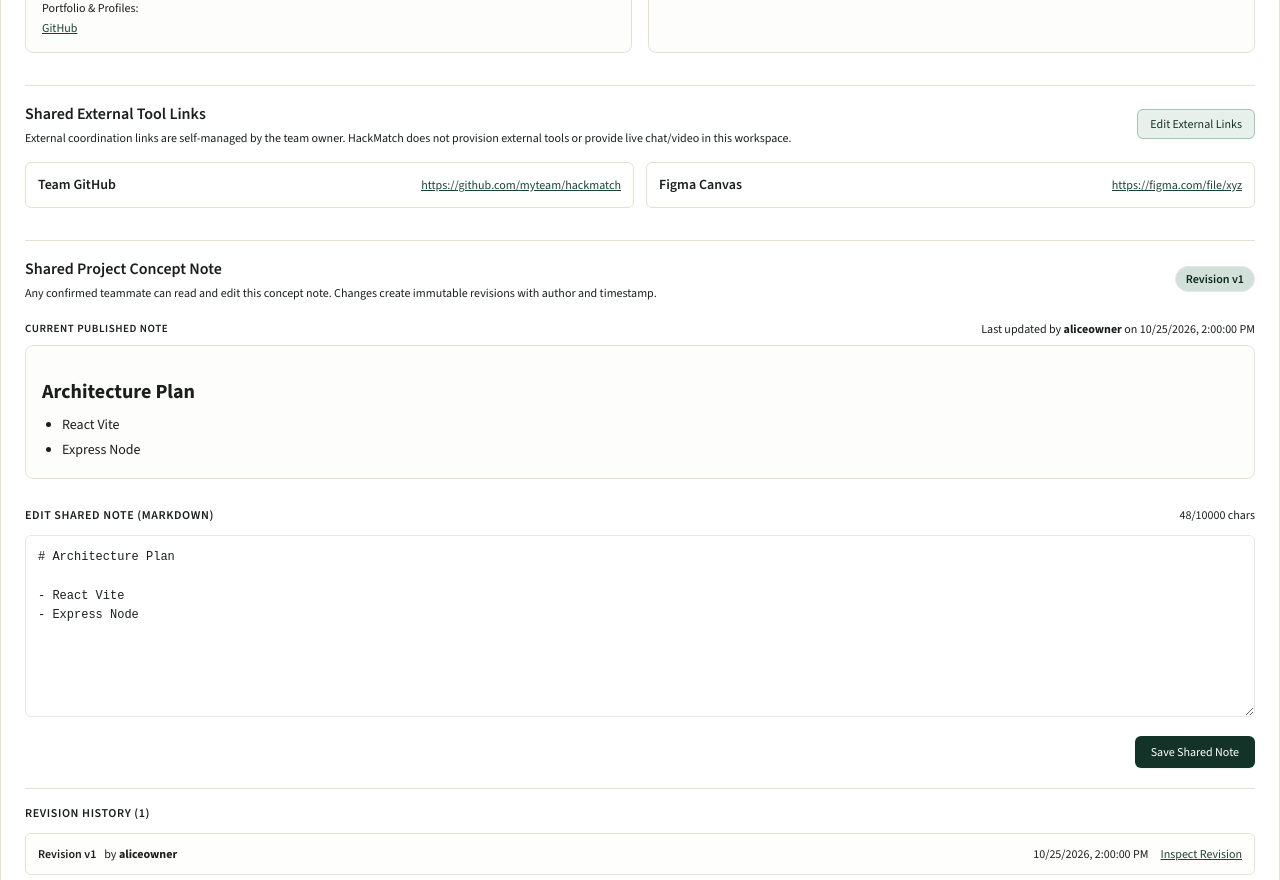
PrivateCoordinationWorkspace component (US-023 / #US-023-T6) › Shared Concept Note & Stale-Save Conflict (FR-070 / US-023 AC 4) › handles 409 stale-save conflict by preserving user text and offering load latest revision
(page scrolled)
Replace the text in the text box with test id "workspace-note-textarea" with "# My Conflicting Draft" at (640, 626), box x1=25 y1=534 x2=1255 y2=716
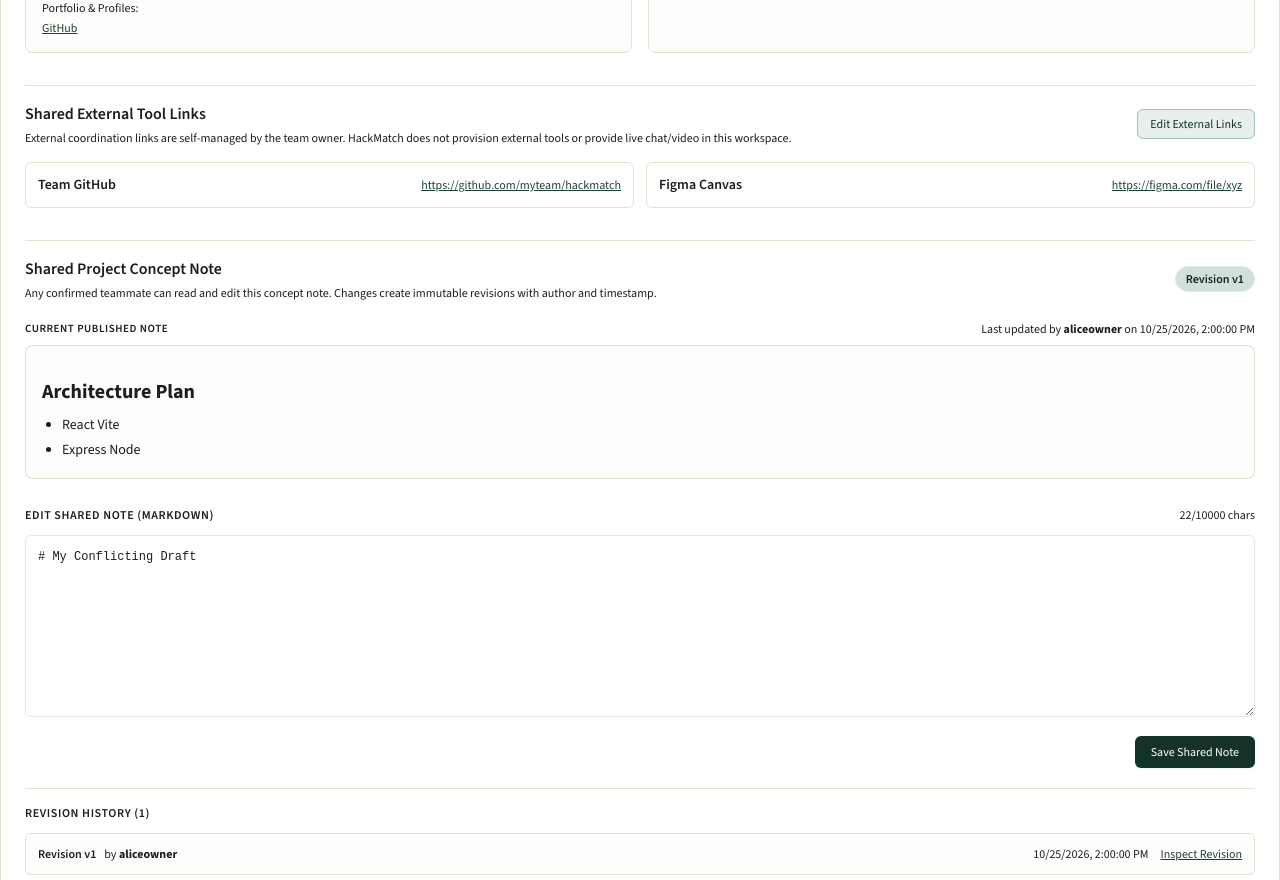
Click the button with test id "workspace-note-save-btn" at (1195, 752), box x1=1135 y1=736 x2=1255 y2=768
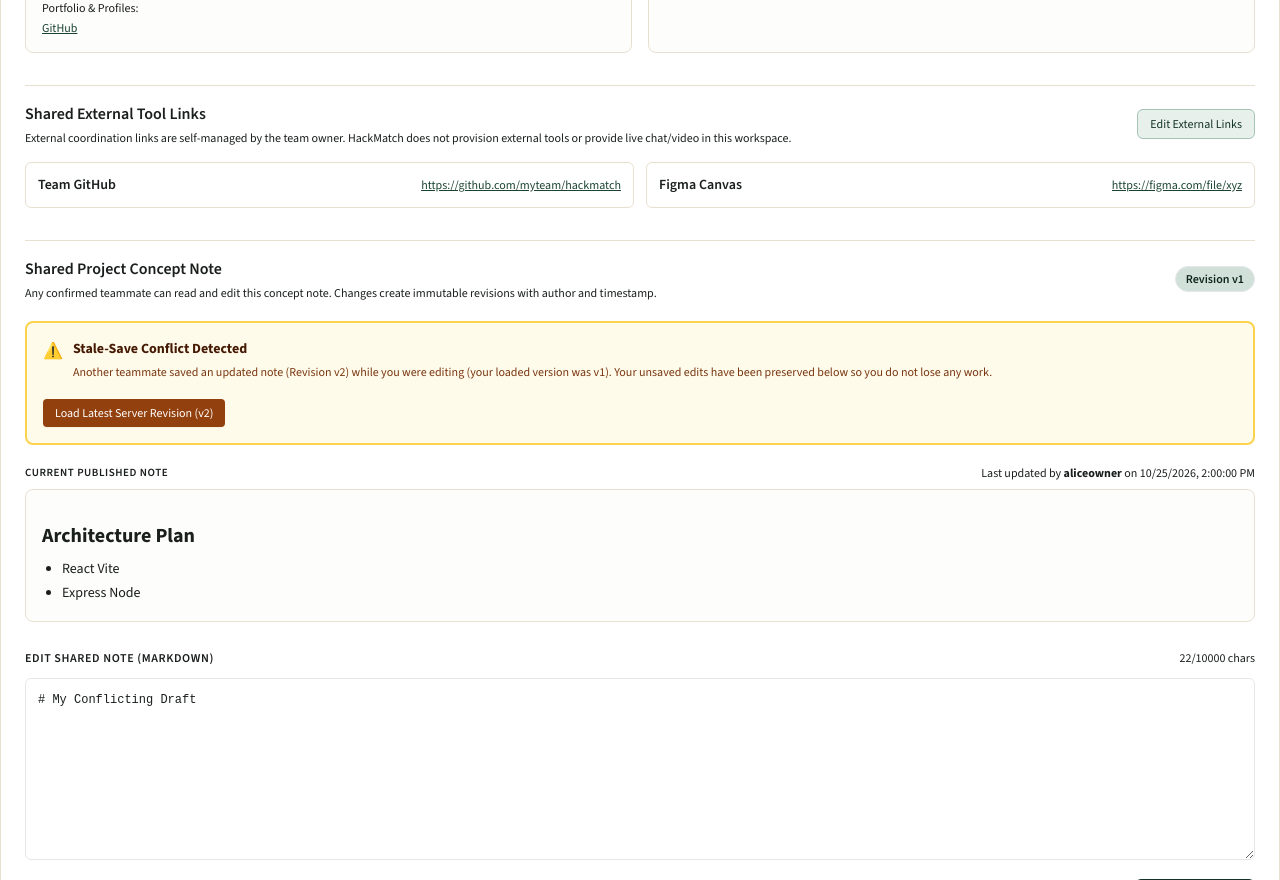
Result: the message with test id "workspace-note-conflict-alert" is shown at x1=25 y1=321 x2=1255 y2=444
Result: the button with test id "workspace-conflict-load-latest-btn" reads "Load Latest Server Revision (v2)"
Click the button with test id "workspace-conflict-load-latest-btn" at (134, 412), box x1=43 y1=398 x2=225 y2=426
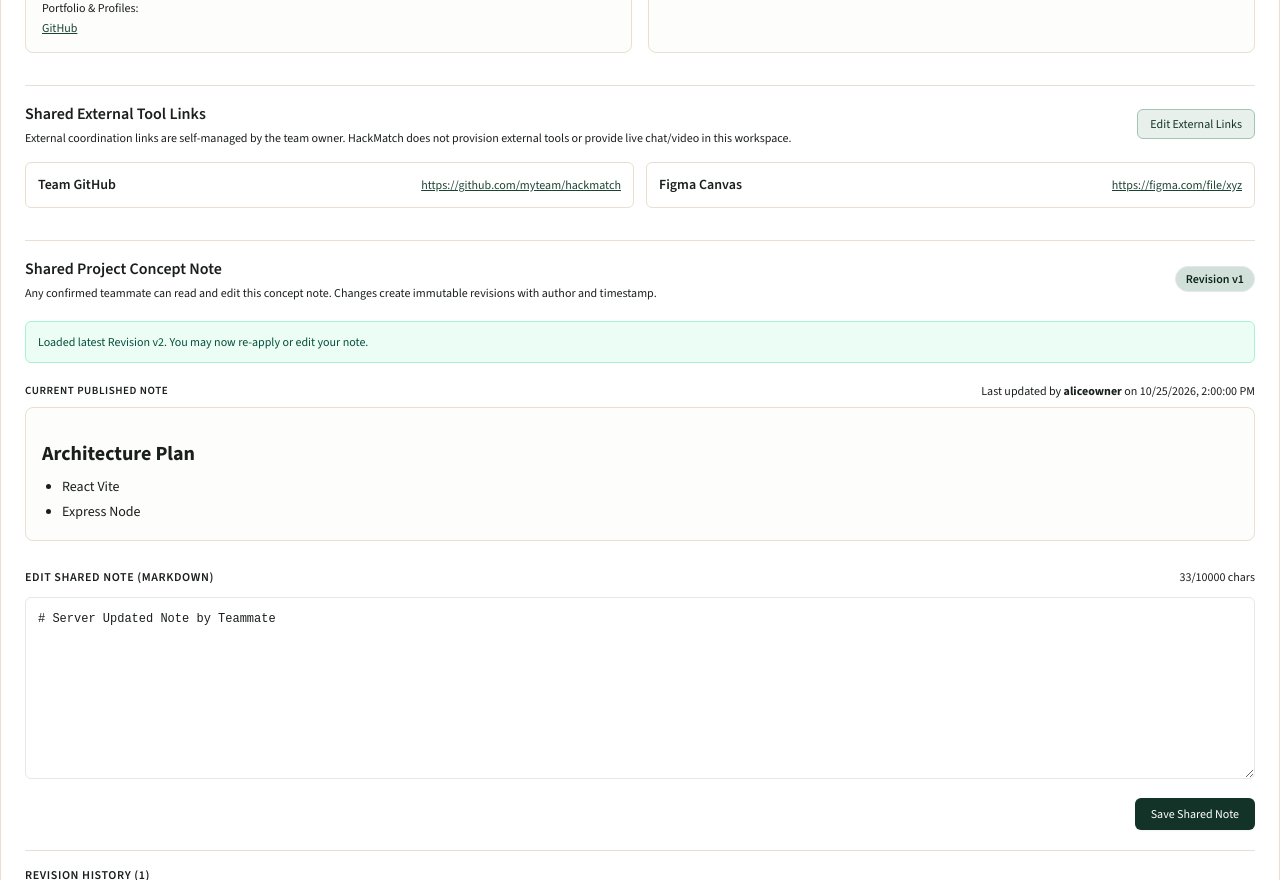
Result: the text box with test id "workspace-note-textarea" holds "# Server Updated Note by Teammate" at x1=25 y1=596 x2=1255 y2=778
Result: the message with test id "workspace-note-conflict-alert" is gone
